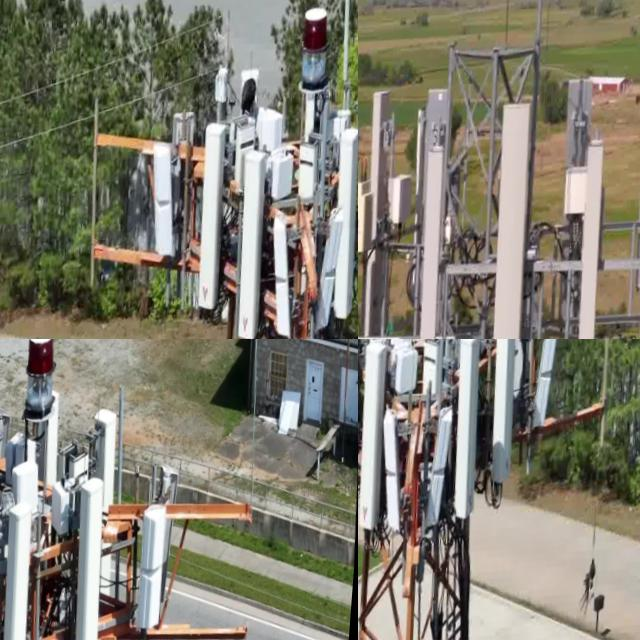GSM Antenna: (485, 97, 550, 339), (359, 84, 409, 339), (408, 138, 467, 339), (231, 146, 280, 339), (192, 120, 238, 322), (447, 339, 493, 525), (70, 474, 121, 640), (575, 136, 616, 339), (358, 339, 399, 538), (486, 339, 536, 497), (0, 494, 46, 640), (136, 501, 178, 640), (148, 139, 190, 270), (267, 209, 307, 339), (332, 128, 358, 325), (380, 408, 413, 536), (91, 405, 124, 519)
